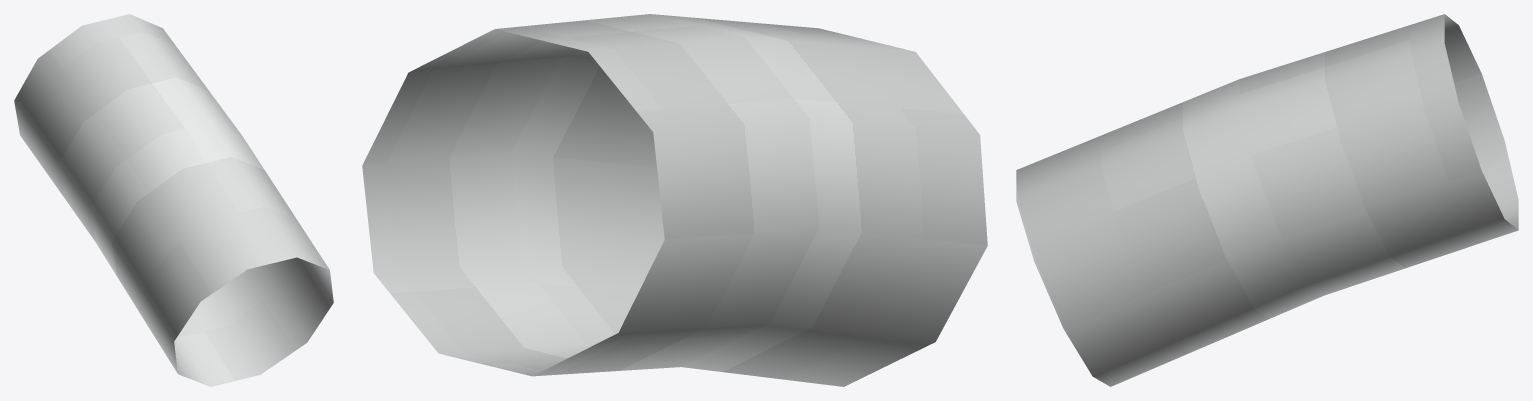
The model's file is nycsignalarm_regular6_c2.obj.
The picture shows the model from 3 angles, left to right: view 1: azimuth 30°, elevation 25°; view 2: azimuth 150°, elevation 25°; view 3: azimuth 270°, elevation 25°; orthographic projection. The views are drawn at different scales.
Parts seen in each view (by area): view 1: nycsignalarm_regular6_c2; view 2: nycsignalarm_regular6_c2; view 3: nycsignalarm_regular6_c2.
Boxes of the visible parts, x1,y1,x2,y2 form: nycsignalarm_regular6_c2: [14, 14, 333, 386]; nycsignalarm_regular6_c2: [362, 14, 987, 386]; nycsignalarm_regular6_c2: [1016, 14, 1518, 386].
Size of the model in its own units: 0.3335 by 0.5309 by 0.7061.
